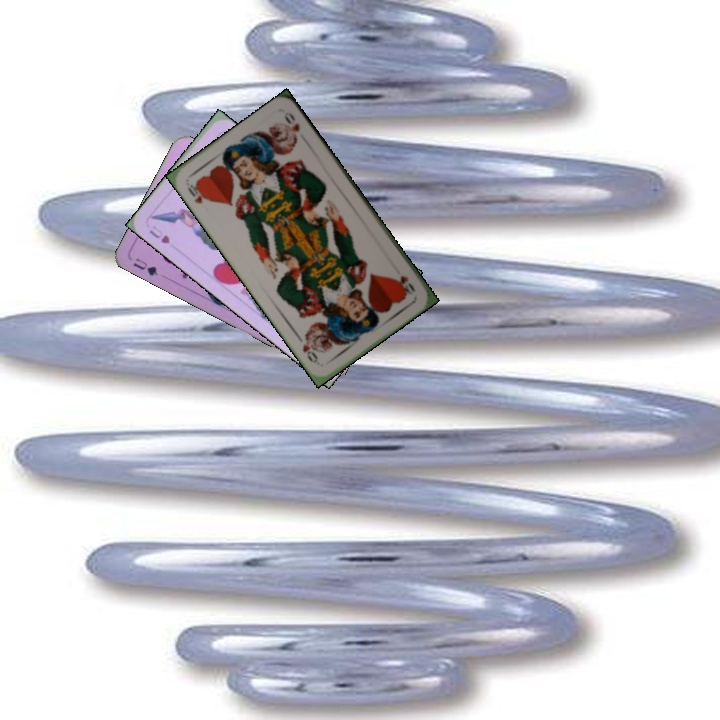GU: (129, 254, 160, 279)
HO: (182, 177, 211, 206), (394, 271, 418, 297)
HU: (145, 222, 173, 246)
